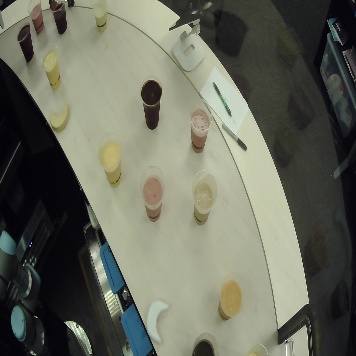full_cup: (140, 165, 165, 223), (191, 168, 216, 224), (188, 98, 213, 154), (98, 133, 123, 187), (139, 78, 163, 129), (38, 41, 62, 92), (217, 274, 242, 320), (15, 23, 34, 64), (192, 332, 217, 356), (49, 1, 67, 34), (27, 1, 44, 35), (90, 1, 108, 32), (247, 343, 267, 356)
puck: (146, 298, 169, 344), (49, 103, 70, 132)
